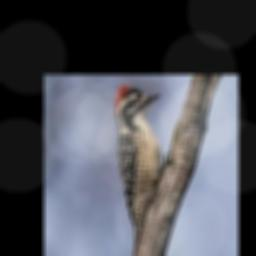Woodpecker: (113, 85, 174, 252)
